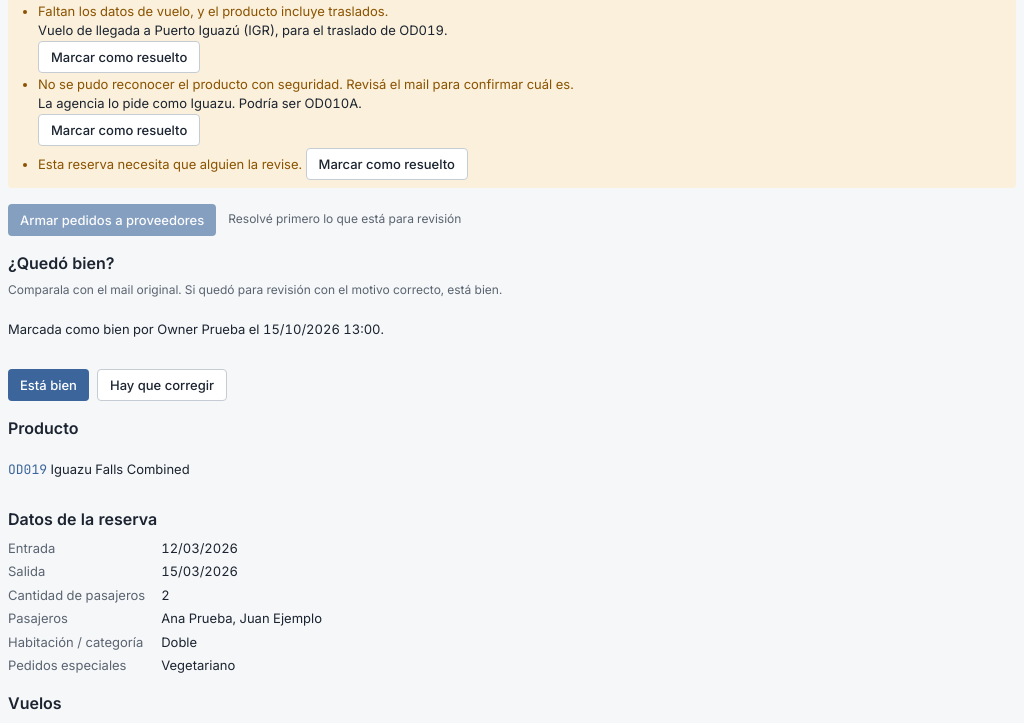
Test: detalle: la marca del owner (fila 13) › si no se pudo guardar: el aviso, y la marca anterior queda como estaba
(page scrolled)
Expected: the text "Marcada como bien por Owner Prueba el 15/10/2026 13:00." is shown, [8,321,384,337]
Click the button "Hay que corregir". click: [162, 385]
box: [97,369,227,401]
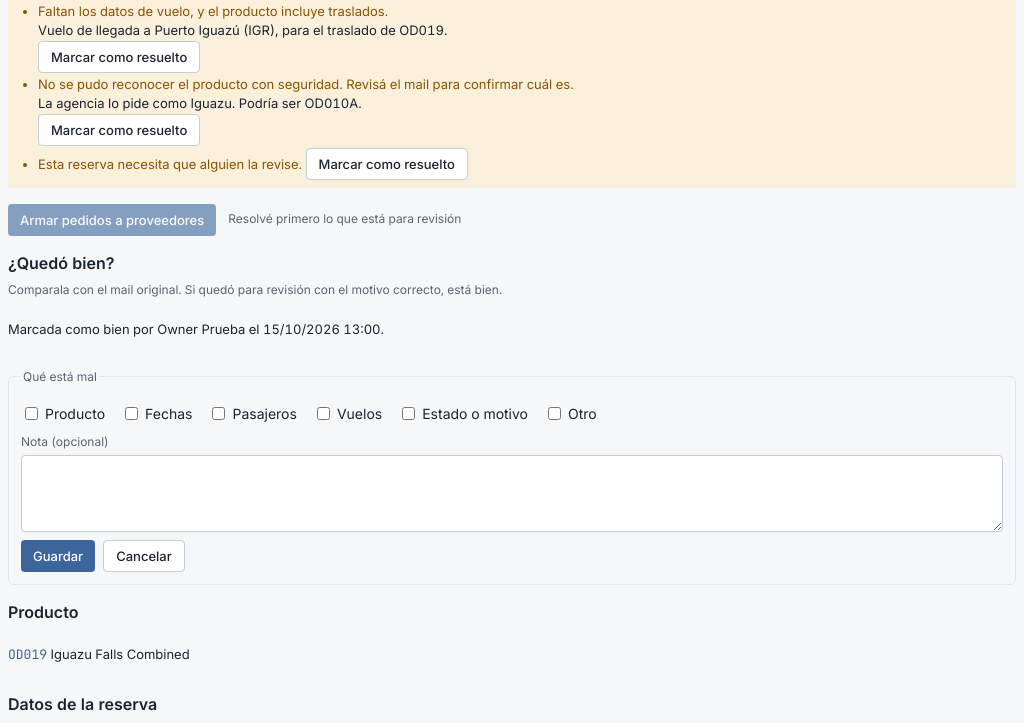
Click the checkbox labelled "Fechas". click: [132, 414]
box: [125,407,138,420]
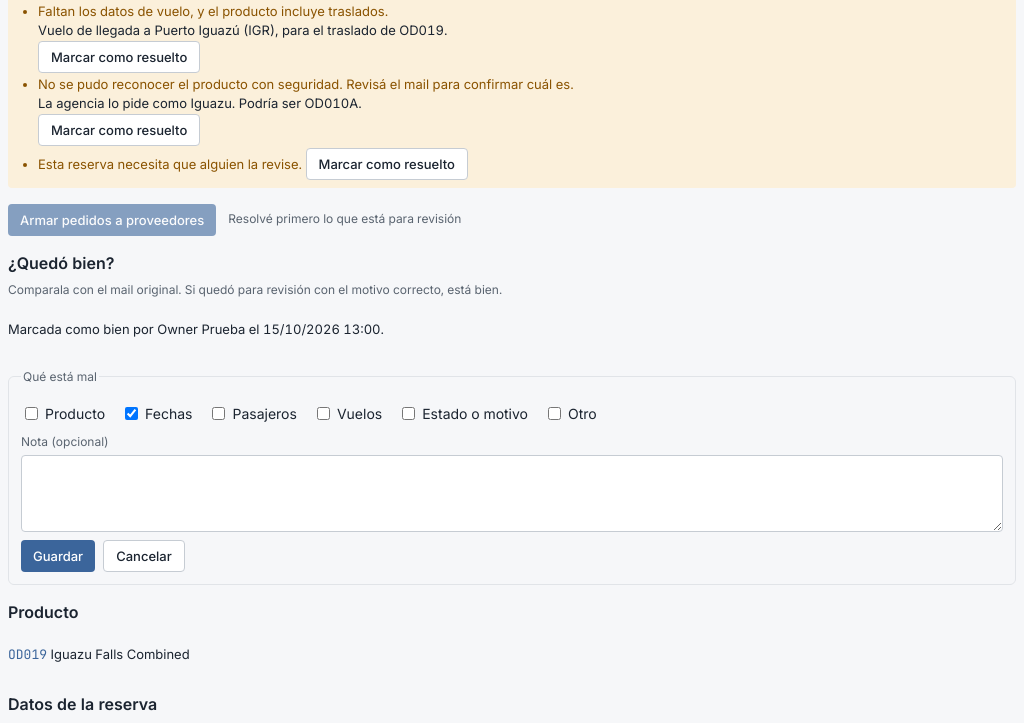
Click the button "Guardar". click: [58, 556]
box: [21,540,95,572]
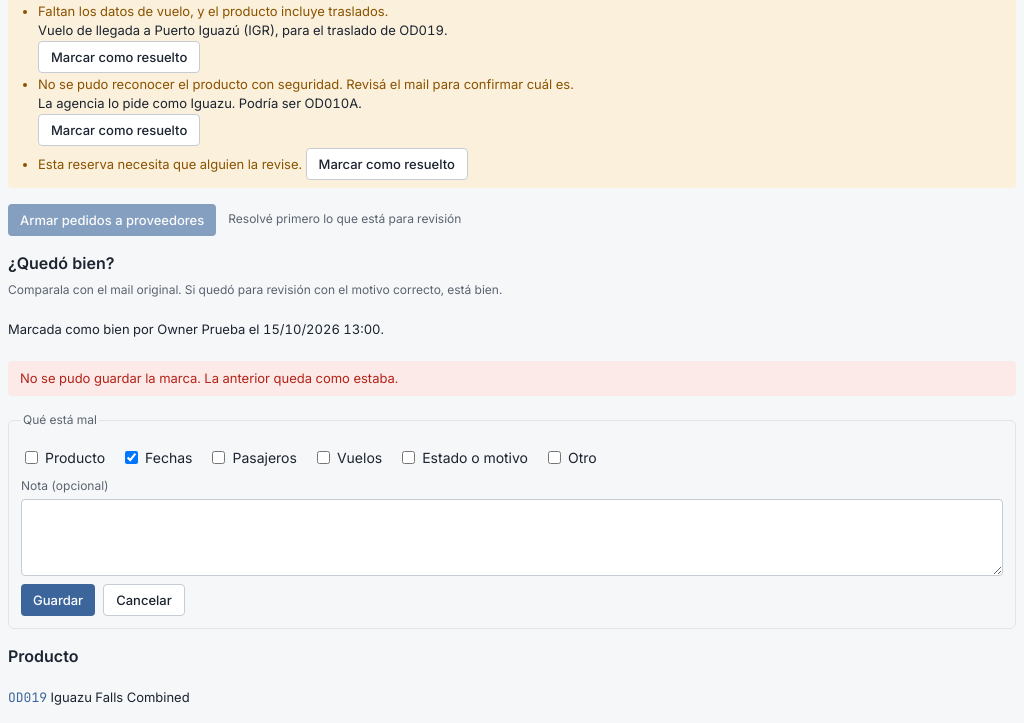
Expected: the text "Marcada como bien por Owner Prueba el 15/10/2026 13:00." is shown, [8,321,384,337]
Expected: the text "No se pudo guardar la marca. La anterior queda como estaba." is shown, [8,361,1016,396]
